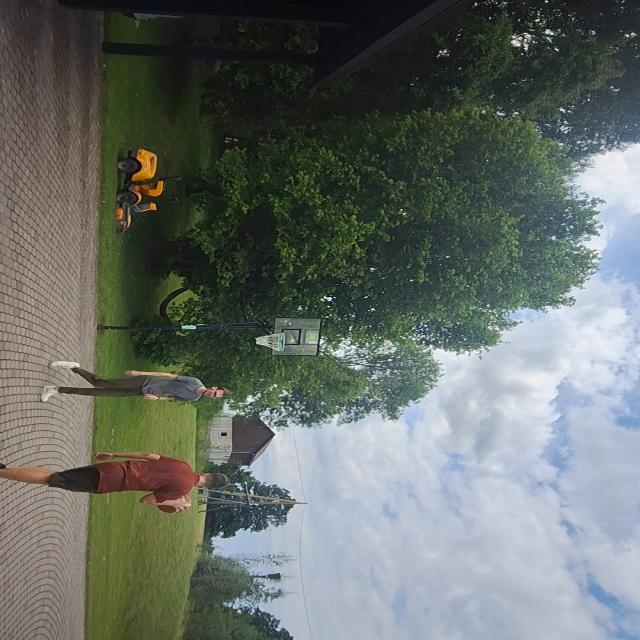ball: (149, 495, 196, 513)
hoop: (253, 331, 288, 354)
player: (1, 452, 233, 511), (38, 358, 234, 409)
